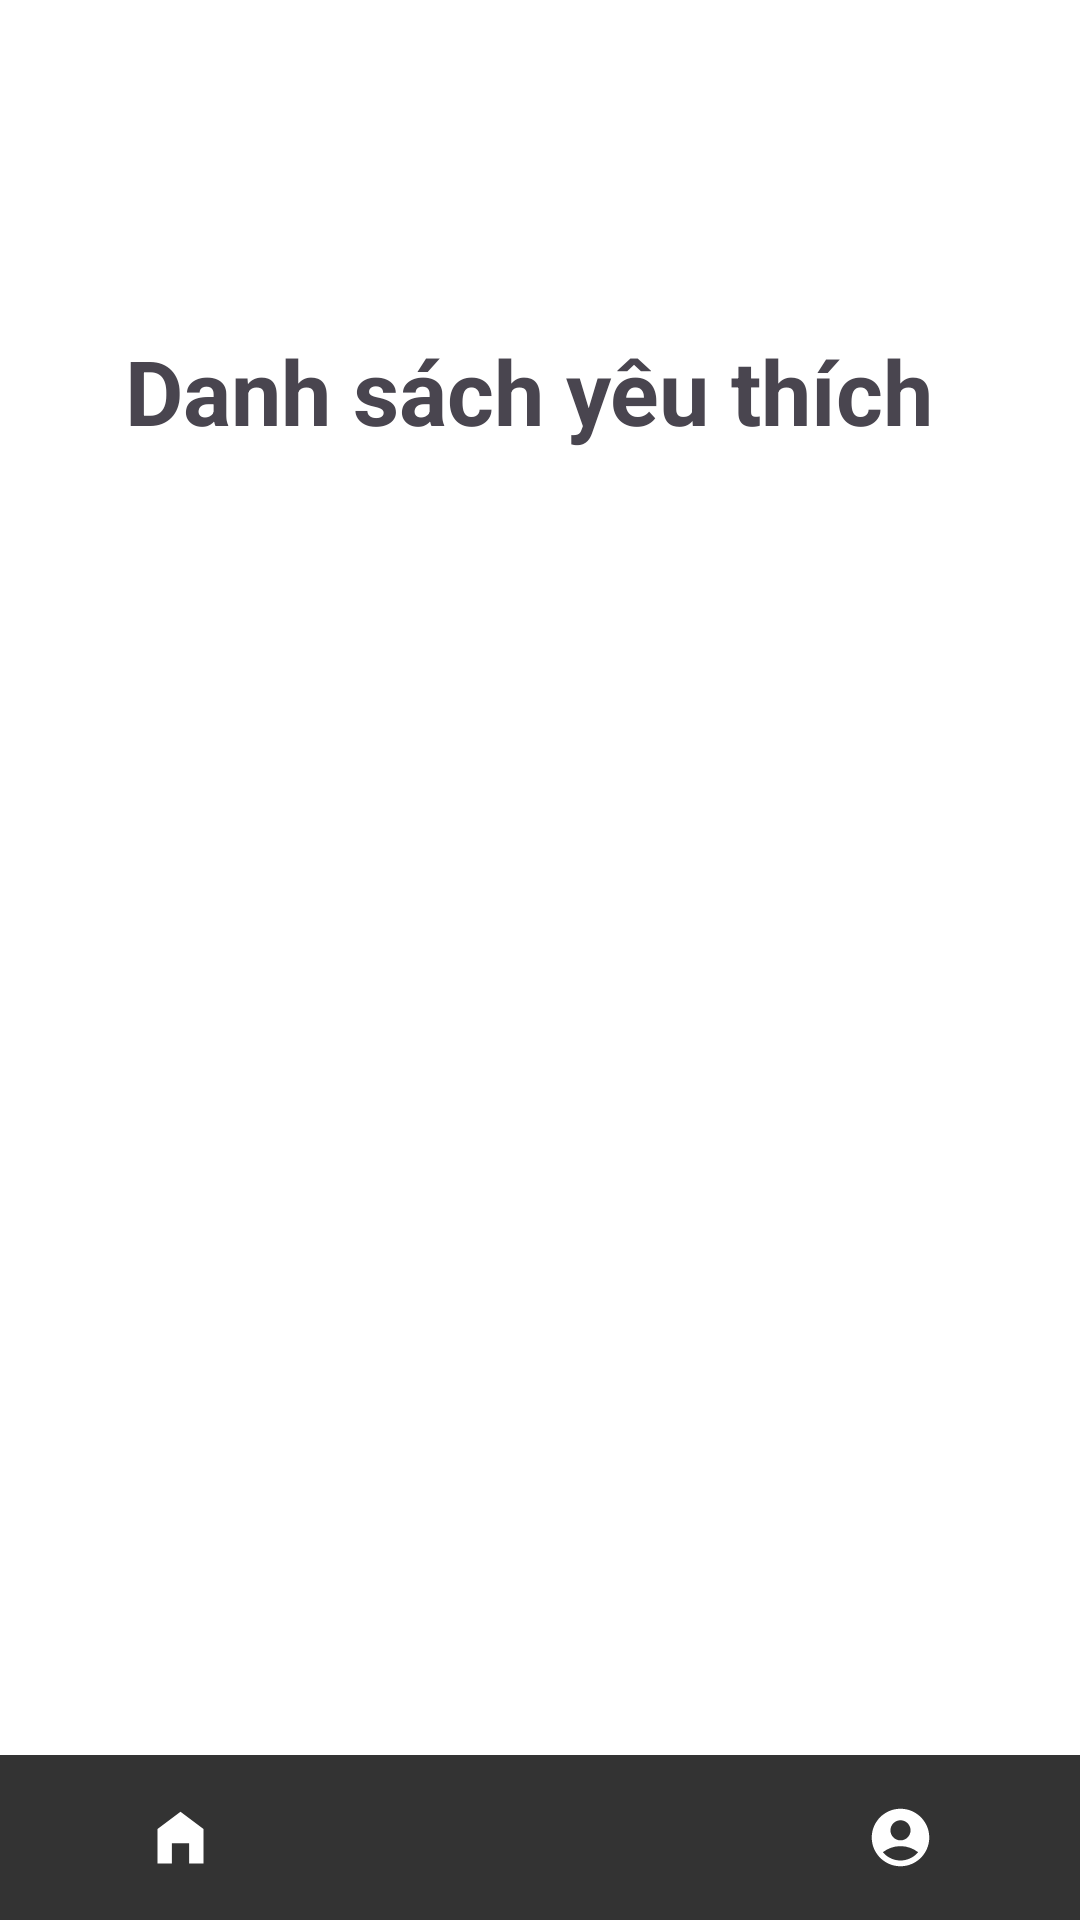

Locate icon controls on the screen. Image size 1080×1920, boxes as (x1, y1, x2, y2).
accout: (871, 1808, 930, 1867)
home: (157, 1812, 204, 1864)
